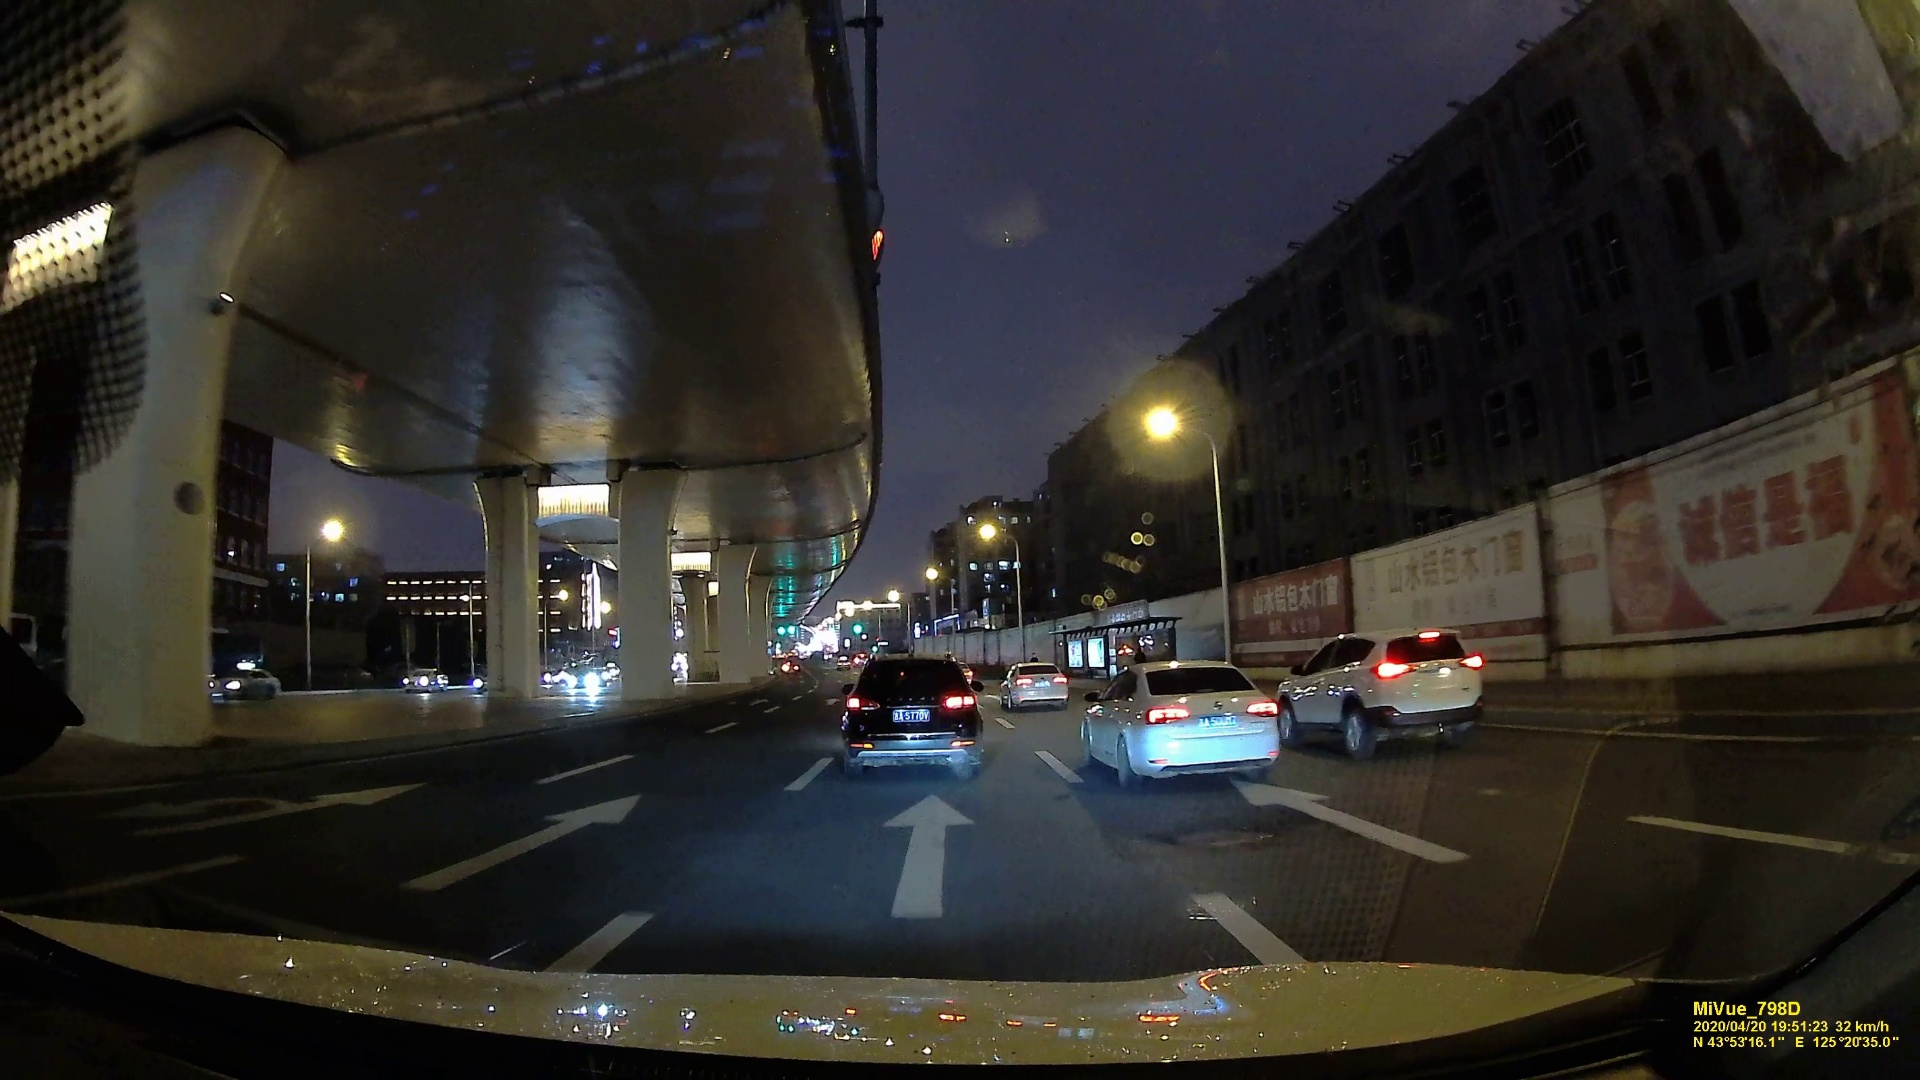vehicle: (1283, 622, 1494, 756), (1084, 659, 1278, 786), (835, 658, 984, 775), (1000, 657, 1072, 711), (202, 665, 281, 702), (398, 666, 446, 688)
